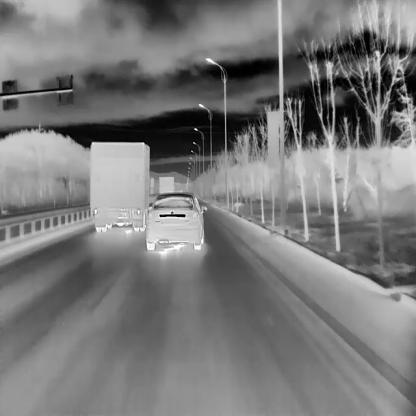car: (145, 191, 207, 249)
truck: (90, 140, 152, 231), (158, 176, 174, 199)
